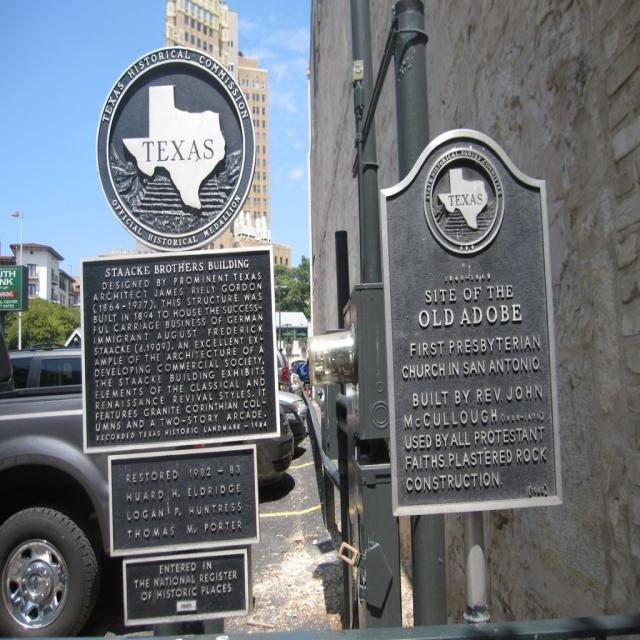car: (0, 340, 294, 480)
